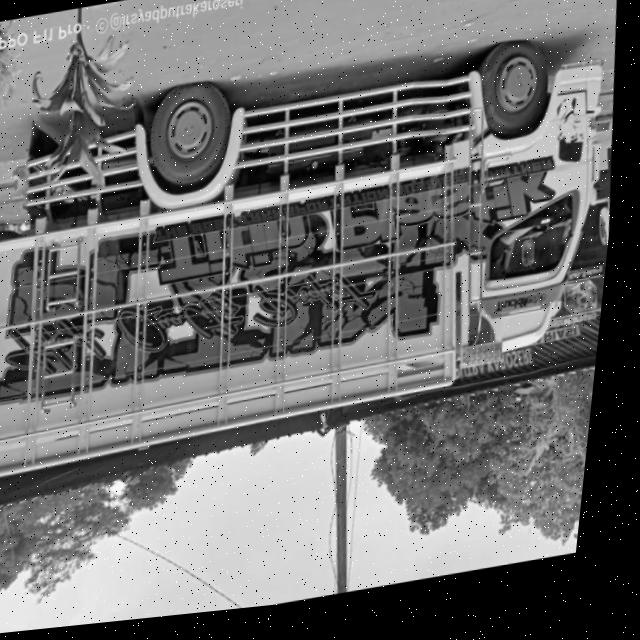truck: (417, 31, 634, 420)
